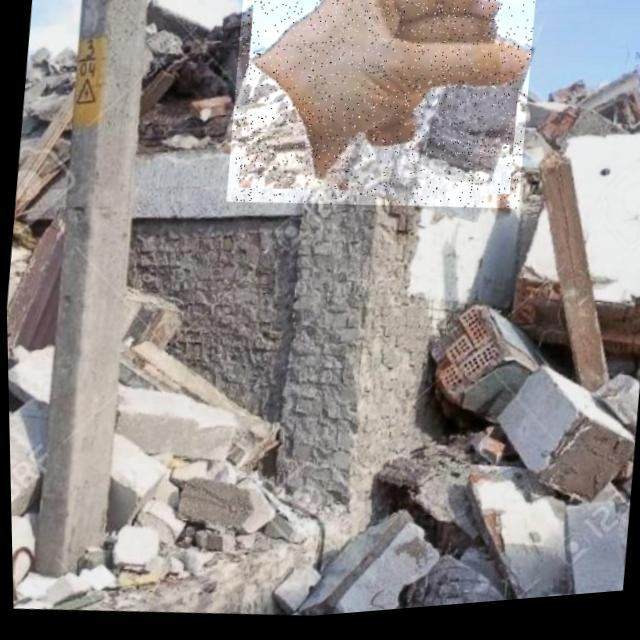Person in Rubble: (221, 0, 540, 235)
